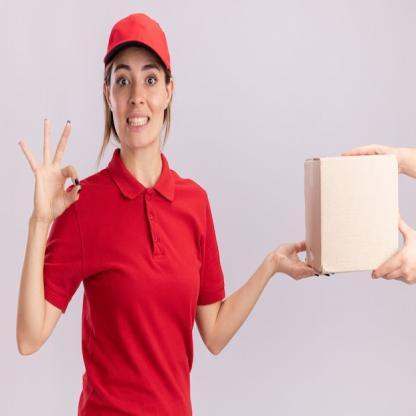ok: (16, 113, 84, 231)
